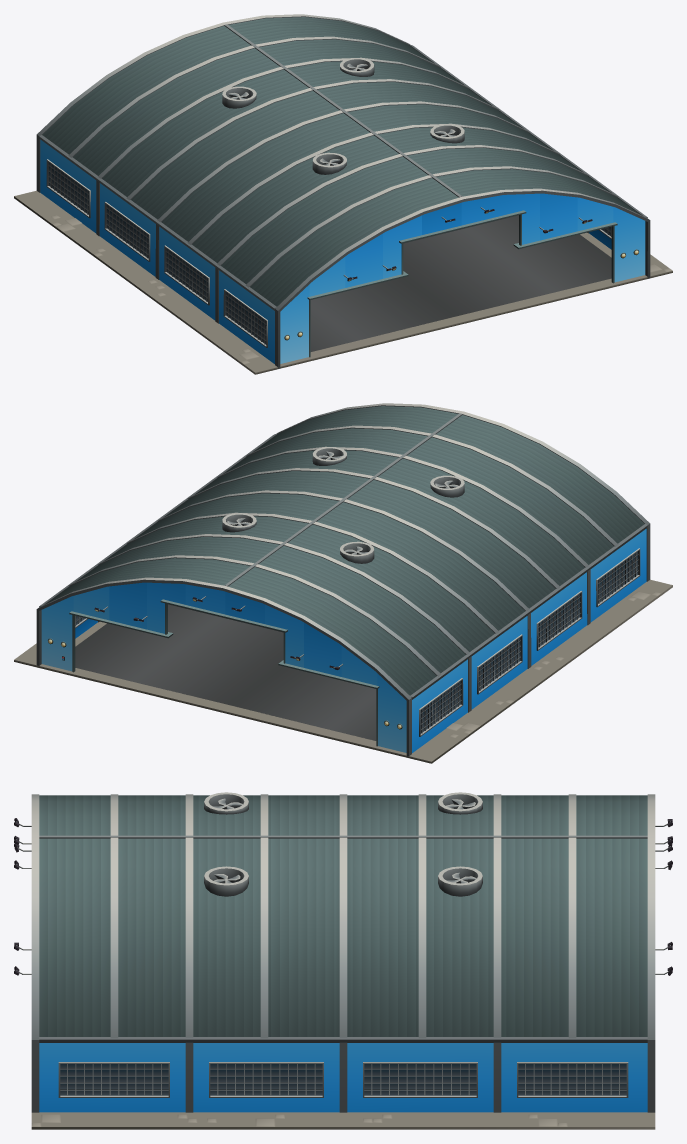
File: Hangar_1B.fbx
The picture shows the model from 3 angles, top to bottom: view 1: azimuth 30°, elevation 25°; view 2: azimuth 150°, elevation 25°; view 3: azimuth 270°, elevation 25°; orthographic projection. The views are drawn at different scales.
Parts seen in each view (by area): view 1: Hangar_1B, Hangar_1B_Windows; view 2: Hangar_1B, Hangar_1B_Windows; view 3: Hangar_1B, Hangar_1B_Windows.
Boxes of the visible parts, <box> form: Hangar_1B: <box>14,14,672,374</box>; Hangar_1B_Windows: <box>49,162,610,344</box>; Hangar_1B: <box>14,403,672,763</box>; Hangar_1B_Windows: <box>76,551,637,733</box>; Hangar_1B: <box>14,792,672,1129</box>; Hangar_1B_Windows: <box>60,1064,626,1095</box>.
Bounding box in the file's own units: 6400 × 1828 × 6762.
